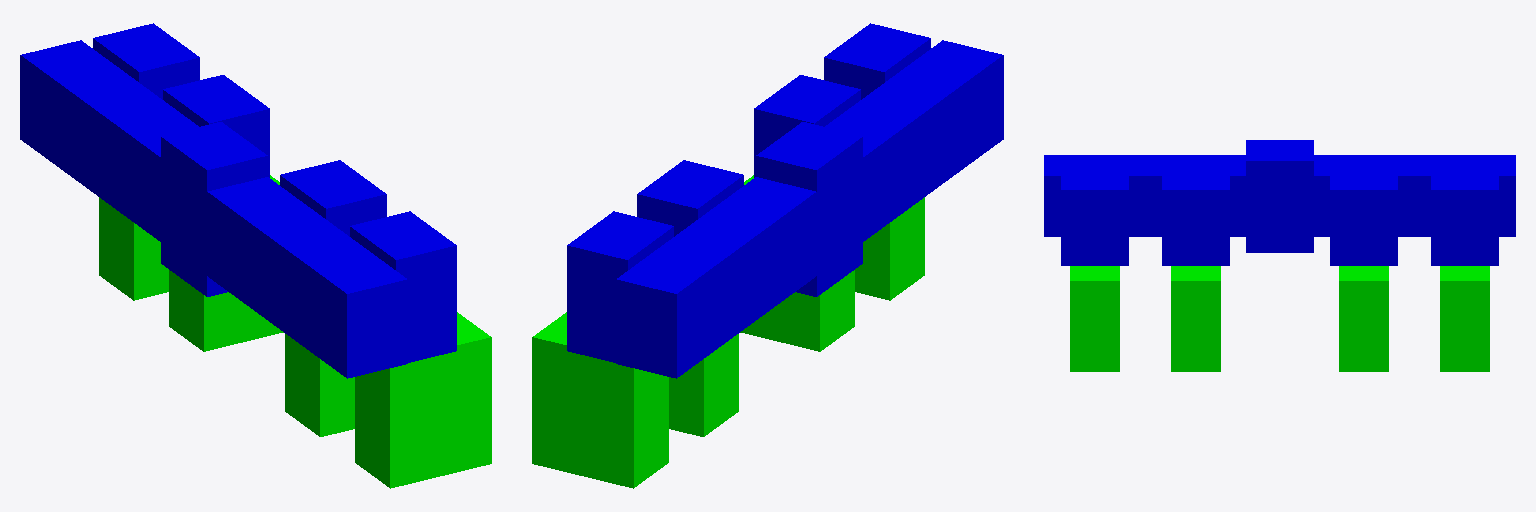
robot.urdf — robot:
<robot name = "robot">
    <link name="root">
        <inertial>
            <origin xyz="0.0 0.0 1.5" rpy="0 0 0"/>
            <mass value="1" />
            <inertia ixx="100" ixy="0" ixz="0" iyy="100" iyz="0" izz="100" />
        </inertial>
        <visual>
            <origin xyz="0.0 0.0 1.5" rpy="0 0 0"/>
            <geometry>
                <box size="0 0 0.0001" />
            </geometry>
            <material name="Green">
                <color rgba="0 1.0 0.0 1.0"/>
            </material>
        </visual>
        <collision>
            <origin xyz="0.0 0.0 1.5" rpy="0 0 0"/>
            <geometry>
                <box size="0 0 0.0001" />
            </geometry>
        </collision>
    </link>
    <joint name="root_000" type="revolute">
       <parent link="root"/>
       <child  link="000"/>
       <origin rpy="0 0 0" xyz="0.0 0.0 1.5" />
     <axis xyz="1 0 0"/>
       <limit effort="0.0" lower="-3.14159" upper="3.14159" velocity="0.0"/>
    </joint>
    <link name="000">
        <inertial>
            <origin xyz="0.0 0.0 -0.3" rpy="0 0 0"/>
            <mass value="1" />
            <inertia ixx="100" ixy="0" ixz="0" iyy="100" iyz="0" izz="100" />
        </inertial>
        <visual>
            <origin xyz="0.0 0.0 -0.3" rpy="0 0 0"/>
            <geometry>
                <box size="0.3 0.4 0.6" />
            </geometry>
            <material name="Blue">
                <color rgba="0 0.0 1.0 1.0"/>
            </material>
        </visual>
        <collision>
            <origin xyz="0.0 0.0 -0.3" rpy="0 0 0"/>
            <geometry>
                <box size="0.3 0.4 0.6" />
            </geometry>
        </collision>
    </link>
    <joint name="000_000-100" type="revolute">
       <parent link="000"/>
       <child  link="000-100"/>
       <origin rpy="0 0 0" xyz="0.0 0.2 -0.3" />
     <axis xyz="0 1 0"/>
       <limit effort="0.0" lower="-3.14159" upper="3.14159" velocity="0.0"/>
    </joint>
    <link name="000-100">
        <inertial>
            <origin xyz="0.0 0.3 -0.0" rpy="0 0 0"/>
            <mass value="1" />
            <inertia ixx="100" ixy="0" ixz="0" iyy="100" iyz="0" izz="100" />
        </inertial>
        <visual>
            <origin xyz="0.0 0.3 -0.0" rpy="0 0 0"/>
            <geometry>
                <box size="0.3 0.6 0.4" />
            </geometry>
            <material name="Blue">
                <color rgba="0 0.0 1.0 1.0"/>
            </material>
        </visual>
        <collision>
            <origin xyz="0.0 0.3 -0.0" rpy="0 0 0"/>
            <geometry>
                <box size="0.3 0.6 0.4" />
            </geometry>
        </collision>
    </link>
    <joint name="000-100_000-110" type="revolute">
       <parent link="000-100"/>
       <child  link="000-110"/>
       <origin rpy="0 0 0" xyz="0.0 0.6 -0.0" />
     <axis xyz="0 1 0"/>
       <limit effort="0.0" lower="-3.14159" upper="3.14159" velocity="0.0"/>
    </joint>
    <link name="000-110">
        <inertial>
            <origin xyz="0.0 0.3 -0.0" rpy="0 0 0"/>
            <mass value="1" />
            <inertia ixx="100" ixy="0" ixz="0" iyy="100" iyz="0" izz="100" />
        </inertial>
        <visual>
            <origin xyz="0.0 0.3 -0.0" rpy="0 0 0"/>
            <geometry>
                <box size="0.3 0.6 0.4" />
            </geometry>
            <material name="Blue">
                <color rgba="0 0.0 1.0 1.0"/>
            </material>
        </visual>
        <collision>
            <origin xyz="0.0 0.3 -0.0" rpy="0 0 0"/>
            <geometry>
                <box size="0.3 0.6 0.4" />
            </geometry>
        </collision>
    </link>
    <joint name="000-110_000-110-200" type="revolute">
       <parent link="000-110"/>
       <child  link="000-110-200"/>
       <origin rpy="0 0 0" xyz="0.15 0.3 -0.0" />
     <axis xyz="1 0 0"/>
       <limit effort="0.0" lower="-3.14159" upper="3.14159" velocity="0.0"/>
    </joint>
    <link name="000-110-200">
        <inertial>
            <origin xyz="0.05 0.0 -0.0" rpy="0 0 0"/>
            <mass value="1" />
            <inertia ixx="100" ixy="0" ixz="0" iyy="100" iyz="0" izz="100" />
        </inertial>
        <visual>
            <origin xyz="0.05 0.0 -0.0" rpy="0 0 0"/>
            <geometry>
                <box size="0.1 0.4 0.5" />
            </geometry>
            <material name="Blue">
                <color rgba="0 0.0 1.0 1.0"/>
            </material>
        </visual>
        <collision>
            <origin xyz="0.05 0.0 -0.0" rpy="0 0 0"/>
            <geometry>
                <box size="0.1 0.4 0.5" />
            </geometry>
        </collision>
    </link>
    <joint name="000-110-200_000-110-210" type="revolute">
       <parent link="000-110-200"/>
       <child  link="000-110-210"/>
       <origin rpy="0 0 0" xyz="0.1 0.0 -0.0" />
     <axis xyz="1 0 0"/>
       <limit effort="0.0" lower="-3.14159" upper="3.14159" velocity="0.0"/>
    </joint>
    <link name="000-110-210">
        <inertial>
            <origin xyz="0.05 0.0 -0.0" rpy="0 0 0"/>
            <mass value="1" />
            <inertia ixx="100" ixy="0" ixz="0" iyy="100" iyz="0" izz="100" />
        </inertial>
        <visual>
            <origin xyz="0.05 0.0 -0.0" rpy="0 0 0"/>
            <geometry>
                <box size="0.1 0.4 0.5" />
            </geometry>
            <material name="Blue">
                <color rgba="0 0.0 1.0 1.0"/>
            </material>
        </visual>
        <collision>
            <origin xyz="0.05 0.0 -0.0" rpy="0 0 0"/>
            <geometry>
                <box size="0.1 0.4 0.5" />
            </geometry>
        </collision>
    </link>
    <joint name="000-110-210_000-110-220" type="revolute">
       <parent link="000-110-210"/>
       <child  link="000-110-220"/>
       <origin rpy="0 0 0" xyz="0.1 0.0 -0.0" />
     <axis xyz="1 0 0"/>
       <limit effort="0.0" lower="-3.14159" upper="3.14159" velocity="0.0"/>
    </joint>
    <link name="000-110-220">
        <inertial>
            <origin xyz="0.05 0.0 -0.0" rpy="0 0 0"/>
            <mass value="1" />
            <inertia ixx="100" ixy="0" ixz="0" iyy="100" iyz="0" izz="100" />
        </inertial>
        <visual>
            <origin xyz="0.05 0.0 -0.0" rpy="0 0 0"/>
            <geometry>
                <box size="0.1 0.4 0.5" />
            </geometry>
            <material name="Blue">
                <color rgba="0 0.0 1.0 1.0"/>
            </material>
        </visual>
        <collision>
            <origin xyz="0.05 0.0 -0.0" rpy="0 0 0"/>
            <geometry>
                <box size="0.1 0.4 0.5" />
            </geometry>
        </collision>
    </link>
    <joint name="000-110-220_000-110-220-300" type="revolute">
       <parent link="000-110-220"/>
       <child  link="000-110-220-300"/>
       <origin rpy="0 0 0" xyz="0.05 0.0 -0.25" />
     <axis xyz="0 0 1"/>
       <limit effort="0.0" lower="-3.14159" upper="3.14159" velocity="0.0"/>
    </joint>
    <link name="000-110-220-300">
        <inertial>
            <origin xyz="0.0 0.0 -0.3" rpy="0 0 0"/>
            <mass value="1" />
            <inertia ixx="100" ixy="0" ixz="0" iyy="100" iyz="0" izz="100" />
        </inertial>
        <visual>
            <origin xyz="0.0 0.0 -0.3" rpy="0 0 0"/>
            <geometry>
                <box size="0.5 0.3 0.6" />
            </geometry>
            <material name="Green">
                <color rgba="0 1.0 0.0 1.0"/>
            </material>
        </visual>
        <collision>
            <origin xyz="0.0 0.0 -0.3" rpy="0 0 0"/>
            <geometry>
                <box size="0.5 0.3 0.6" />
            </geometry>
        </collision>
    </link>
    <joint name="000-100_000-100-200" type="revolute">
       <parent link="000-100"/>
       <child  link="000-100-200"/>
       <origin rpy="0 0 0" xyz="0.15 0.3 -0.0" />
     <axis xyz="1 0 0"/>
       <limit effort="0.0" lower="-3.14159" upper="3.14159" velocity="0.0"/>
    </joint>
    <link name="000-100-200">
        <inertial>
            <origin xyz="0.05 0.0 -0.0" rpy="0 0 0"/>
            <mass value="1" />
            <inertia ixx="100" ixy="0" ixz="0" iyy="100" iyz="0" izz="100" />
        </inertial>
        <visual>
            <origin xyz="0.05 0.0 -0.0" rpy="0 0 0"/>
            <geometry>
                <box size="0.1 0.4 0.5" />
            </geometry>
            <material name="Blue">
                <color rgba="0 0.0 1.0 1.0"/>
            </material>
        </visual>
        <collision>
            <origin xyz="0.05 0.0 -0.0" rpy="0 0 0"/>
            <geometry>
                <box size="0.1 0.4 0.5" />
            </geometry>
        </collision>
    </link>
    <joint name="000-100-200_000-100-210" type="revolute">
       <parent link="000-100-200"/>
       <child  link="000-100-210"/>
       <origin rpy="0 0 0" xyz="0.1 0.0 -0.0" />
     <axis xyz="1 0 0"/>
       <limit effort="0.0" lower="-3.14159" upper="3.14159" velocity="0.0"/>
    </joint>
    <link name="000-100-210">
        <inertial>
            <origin xyz="0.05 0.0 -0.0" rpy="0 0 0"/>
            <mass value="1" />
            <inertia ixx="100" ixy="0" ixz="0" iyy="100" iyz="0" izz="100" />
        </inertial>
        <visual>
            <origin xyz="0.05 0.0 -0.0" rpy="0 0 0"/>
            <geometry>
                <box size="0.1 0.4 0.5" />
            </geometry>
            <material name="Blue">
                <color rgba="0 0.0 1.0 1.0"/>
            </material>
        </visual>
        <collision>
            <origin xyz="0.05 0.0 -0.0" rpy="0 0 0"/>
            <geometry>
                <box size="0.1 0.4 0.5" />
            </geometry>
        </collision>
    </link>
    <joint name="000-100-210_000-100-220" type="revolute">
       <parent link="000-100-210"/>
       <child  link="000-100-220"/>
       <origin rpy="0 0 0" xyz="0.1 0.0 -0.0" />
     <axis xyz="1 0 0"/>
       <limit effort="0.0" lower="-3.14159" upper="3.14159" velocity="0.0"/>
    </joint>
    <link name="000-100-220">
        <inertial>
            <origin xyz="0.05 0.0 -0.0" rpy="0 0 0"/>
            <mass value="1" />
            <inertia ixx="100" ixy="0" ixz="0" iyy="100" iyz="0" izz="100" />
        </inertial>
        <visual>
            <origin xyz="0.05 0.0 -0.0" rpy="0 0 0"/>
            <geometry>
                <box size="0.1 0.4 0.5" />
            </geometry>
            <material name="Blue">
                <color rgba="0 0.0 1.0 1.0"/>
            </material>
        </visual>
        <collision>
            <origin xyz="0.05 0.0 -0.0" rpy="0 0 0"/>
            <geometry>
                <box size="0.1 0.4 0.5" />
            </geometry>
        </collision>
    </link>
    <joint name="000-100-220_000-100-220-300" type="revolute">
       <parent link="000-100-220"/>
       <child  link="000-100-220-300"/>
       <origin rpy="0 0 0" xyz="0.05 0.0 -0.25" />
     <axis xyz="0 0 1"/>
       <limit effort="0.0" lower="-3.14159" upper="3.14159" velocity="0.0"/>
    </joint>
    <link name="000-100-220-300">
        <inertial>
            <origin xyz="0.0 0.0 -0.3" rpy="0 0 0"/>
            <mass value="1" />
            <inertia ixx="100" ixy="0" ixz="0" iyy="100" iyz="0" izz="100" />
        </inertial>
        <visual>
            <origin xyz="0.0 0.0 -0.3" rpy="0 0 0"/>
            <geometry>
                <box size="0.5 0.3 0.6" />
            </geometry>
            <material name="Green">
                <color rgba="0 1.0 0.0 1.0"/>
            </material>
        </visual>
        <collision>
            <origin xyz="0.0 0.0 -0.3" rpy="0 0 0"/>
            <geometry>
                <box size="0.5 0.3 0.6" />
            </geometry>
        </collision>
    </link>
    <joint name="000_000-101" type="revolute">
       <parent link="000"/>
       <child  link="000-101"/>
       <origin rpy="0 0 0" xyz="0.0 -0.2 -0.3" />
     <axis xyz="0 1 0"/>
       <limit effort="0.0" lower="-3.14159" upper="3.14159" velocity="0.0"/>
    </joint>
    <link name="000-101">
        <inertial>
            <origin xyz="0.0 -0.3 -0.0" rpy="0 0 0"/>
            <mass value="1" />
            <inertia ixx="100" ixy="0" ixz="0" iyy="100" iyz="0" izz="100" />
        </inertial>
        <visual>
            <origin xyz="0.0 -0.3 -0.0" rpy="0 0 0"/>
            <geometry>
                <box size="0.3 0.6 0.4" />
            </geometry>
            <material name="Blue">
                <color rgba="0 0.0 1.0 1.0"/>
            </material>
        </visual>
        <collision>
            <origin xyz="0.0 -0.3 -0.0" rpy="0 0 0"/>
            <geometry>
                <box size="0.3 0.6 0.4" />
            </geometry>
        </collision>
    </link>
    <joint name="000-101_000-111" type="revolute">
       <parent link="000-101"/>
       <child  link="000-111"/>
       <origin rpy="0 0 0" xyz="0.0 -0.6 -0.0" />
     <axis xyz="0 1 0"/>
       <limit effort="0.0" lower="-3.14159" upper="3.14159" velocity="0.0"/>
    </joint>
    <link name="000-111">
        <inertial>
            <origin xyz="0.0 -0.3 -0.0" rpy="0 0 0"/>
            <mass value="1" />
            <inertia ixx="100" ixy="0" ixz="0" iyy="100" iyz="0" izz="100" />
        </inertial>
        <visual>
            <origin xyz="0.0 -0.3 -0.0" rpy="0 0 0"/>
            <geometry>
                <box size="0.3 0.6 0.4" />
            </geometry>
            <material name="Blue">
                <color rgba="0 0.0 1.0 1.0"/>
            </material>
        </visual>
        <collision>
            <origin xyz="0.0 -0.3 -0.0" rpy="0 0 0"/>
            <geometry>
                <box size="0.3 0.6 0.4" />
            </geometry>
        </collision>
    </link>
    <joint name="000-111_000-111-200" type="revolute">
       <parent link="000-111"/>
       <child  link="000-111-200"/>
       <origin rpy="0 0 0" xyz="0.15 -0.3 -0.0" />
     <axis xyz="1 0 0"/>
       <limit effort="0.0" lower="-3.14159" upper="3.14159" velocity="0.0"/>
    </joint>
    <link name="000-111-200">
        <inertial>
            <origin xyz="0.05 -0.0 -0.0" rpy="0 0 0"/>
            <mass value="1" />
            <inertia ixx="100" ixy="0" ixz="0" iyy="100" iyz="0" izz="100" />
        </inertial>
        <visual>
            <origin xyz="0.05 -0.0 -0.0" rpy="0 0 0"/>
            <geometry>
                <box size="0.1 0.4 0.5" />
            </geometry>
            <material name="Blue">
                <color rgba="0 0.0 1.0 1.0"/>
            </material>
        </visual>
        <collision>
            <origin xyz="0.05 -0.0 -0.0" rpy="0 0 0"/>
            <geometry>
                <box size="0.1 0.4 0.5" />
            </geometry>
        </collision>
    </link>
    <joint name="000-111-200_000-111-210" type="revolute">
       <parent link="000-111-200"/>
       <child  link="000-111-210"/>
       <origin rpy="0 0 0" xyz="0.1 -0.0 -0.0" />
     <axis xyz="1 0 0"/>
       <limit effort="0.0" lower="-3.14159" upper="3.14159" velocity="0.0"/>
    </joint>
    <link name="000-111-210">
        <inertial>
            <origin xyz="0.05 -0.0 -0.0" rpy="0 0 0"/>
            <mass value="1" />
            <inertia ixx="100" ixy="0" ixz="0" iyy="100" iyz="0" izz="100" />
        </inertial>
        <visual>
            <origin xyz="0.05 -0.0 -0.0" rpy="0 0 0"/>
            <geometry>
                <box size="0.1 0.4 0.5" />
            </geometry>
            <material name="Blue">
                <color rgba="0 0.0 1.0 1.0"/>
            </material>
        </visual>
        <collision>
            <origin xyz="0.05 -0.0 -0.0" rpy="0 0 0"/>
            <geometry>
                <box size="0.1 0.4 0.5" />
            </geometry>
        </collision>
    </link>
    <joint name="000-111-210_000-111-220" type="revolute">
       <parent link="000-111-210"/>
       <child  link="000-111-220"/>
       <origin rpy="0 0 0" xyz="0.1 -0.0 -0.0" />
     <axis xyz="1 0 0"/>
       <limit effort="0.0" lower="-3.14159" upper="3.14159" velocity="0.0"/>
    </joint>
    <link name="000-111-220">
        <inertial>
            <origin xyz="0.05 -0.0 -0.0" rpy="0 0 0"/>
            <mass value="1" />
            <inertia ixx="100" ixy="0" ixz="0" iyy="100" iyz="0" izz="100" />
        </inertial>
        <visual>
            <origin xyz="0.05 -0.0 -0.0" rpy="0 0 0"/>
            <geometry>
                <box size="0.1 0.4 0.5" />
            </geometry>
            <material name="Blue">
                <color rgba="0 0.0 1.0 1.0"/>
            </material>
        </visual>
        <collision>
            <origin xyz="0.05 -0.0 -0.0" rpy="0 0 0"/>
            <geometry>
                <box size="0.1 0.4 0.5" />
            </geometry>
        </collision>
    </link>
    <joint name="000-111-220_000-111-220-300" type="revolute">
       <parent link="000-111-220"/>
       <child  link="000-111-220-300"/>
       <origin rpy="0 0 0" xyz="0.05 -0.0 -0.25" />
     <axis xyz="0 0 1"/>
       <limit effort="0.0" lower="-3.14159" upper="3.14159" velocity="0.0"/>
    </joint>
    <link name="000-111-220-300">
        <inertial>
            <origin xyz="0.0 -0.0 -0.3" rpy="0 0 0"/>
            <mass value="1" />
            <inertia ixx="100" ixy="0" ixz="0" iyy="100" iyz="0" izz="100" />
        </inertial>
        <visual>
            <origin xyz="0.0 -0.0 -0.3" rpy="0 0 0"/>
            <geometry>
                <box size="0.5 0.3 0.6" />
            </geometry>
            <material name="Green">
                <color rgba="0 1.0 0.0 1.0"/>
            </material>
        </visual>
        <collision>
            <origin xyz="0.0 -0.0 -0.3" rpy="0 0 0"/>
            <geometry>
                <box size="0.5 0.3 0.6" />
            </geometry>
        </collision>
    </link>
    <joint name="000-101_000-101-200" type="revolute">
       <parent link="000-101"/>
       <child  link="000-101-200"/>
       <origin rpy="0 0 0" xyz="0.15 -0.3 -0.0" />
     <axis xyz="1 0 0"/>
       <limit effort="0.0" lower="-3.14159" upper="3.14159" velocity="0.0"/>
    </joint>
    <link name="000-101-200">
        <inertial>
            <origin xyz="0.05 -0.0 -0.0" rpy="0 0 0"/>
            <mass value="1" />
            <inertia ixx="100" ixy="0" ixz="0" iyy="100" iyz="0" izz="100" />
        </inertial>
        <visual>
            <origin xyz="0.05 -0.0 -0.0" rpy="0 0 0"/>
            <geometry>
                <box size="0.1 0.4 0.5" />
            </geometry>
            <material name="Blue">
                <color rgba="0 0.0 1.0 1.0"/>
            </material>
        </visual>
        <collision>
            <origin xyz="0.05 -0.0 -0.0" rpy="0 0 0"/>
            <geometry>
                <box size="0.1 0.4 0.5" />
            </geometry>
        </collision>
    </link>
    <joint name="000-101-200_000-101-210" type="revolute">
       <parent link="000-101-200"/>
       <child  link="000-101-210"/>
       <origin rpy="0 0 0" xyz="0.1 -0.0 -0.0" />
     <axis xyz="1 0 0"/>
       <limit effort="0.0" lower="-3.14159" upper="3.14159" velocity="0.0"/>
    </joint>
    <link name="000-101-210">
        <inertial>
            <origin xyz="0.05 -0.0 -0.0" rpy="0 0 0"/>
            <mass value="1" />
            <inertia ixx="100" ixy="0" ixz="0" iyy="100" iyz="0" izz="100" />
        </inertial>
        <visual>
            <origin xyz="0.05 -0.0 -0.0" rpy="0 0 0"/>
            <geometry>
                <box size="0.1 0.4 0.5" />
            </geometry>
            <material name="Blue">
                <color rgba="0 0.0 1.0 1.0"/>
            </material>
        </visual>
        <collision>
            <origin xyz="0.05 -0.0 -0.0" rpy="0 0 0"/>
            <geometry>
                <box size="0.1 0.4 0.5" />
            </geometry>
        </collision>
    </link>
    <joint name="000-101-210_000-101-220" type="revolute">
       <parent link="000-101-210"/>
       <child  link="000-101-220"/>
       <origin rpy="0 0 0" xyz="0.1 -0.0 -0.0" />
     <axis xyz="1 0 0"/>
       <limit effort="0.0" lower="-3.14159" upper="3.14159" velocity="0.0"/>
    </joint>
    <link name="000-101-220">
        <inertial>
            <origin xyz="0.05 -0.0 -0.0" rpy="0 0 0"/>
            <mass value="1" />
            <inertia ixx="100" ixy="0" ixz="0" iyy="100" iyz="0" izz="100" />
        </inertial>
        <visual>
            <origin xyz="0.05 -0.0 -0.0" rpy="0 0 0"/>
            <geometry>
                <box size="0.1 0.4 0.5" />
            </geometry>
            <material name="Blue">
                <color rgba="0 0.0 1.0 1.0"/>
            </material>
        </visual>
        <collision>
            <origin xyz="0.05 -0.0 -0.0" rpy="0 0 0"/>
            <geometry>
                <box size="0.1 0.4 0.5" />
            </geometry>
        </collision>
    </link>
    <joint name="000-101-220_000-101-220-300" type="revolute">
       <parent link="000-101-220"/>
       <child  link="000-101-220-300"/>
       <origin rpy="0 0 0" xyz="0.05 -0.0 -0.25" />
     <axis xyz="0 0 1"/>
       <limit effort="0.0" lower="-3.14159" upper="3.14159" velocity="0.0"/>
    </joint>
    <link name="000-101-220-300">
        <inertial>
            <origin xyz="0.0 -0.0 -0.3" rpy="0 0 0"/>
            <mass value="1" />
            <inertia ixx="100" ixy="0" ixz="0" iyy="100" iyz="0" izz="100" />
        </inertial>
        <visual>
            <origin xyz="0.0 -0.0 -0.3" rpy="0 0 0"/>
            <geometry>
                <box size="0.5 0.3 0.6" />
            </geometry>
            <material name="Green">
                <color rgba="0 1.0 0.0 1.0"/>
            </material>
        </visual>
        <collision>
            <origin xyz="0.0 -0.0 -0.3" rpy="0 0 0"/>
            <geometry>
                <box size="0.5 0.3 0.6" />
            </geometry>
        </collision>
    </link>
</robot>

--- Render facts (derived) ---
Views: 3 orthographic renders of the robot side by side, from view 1: azimuth 30°, elevation 25°; view 2: azimuth 150°, elevation 25°; view 3: azimuth 270°, elevation 25°.
Robot: robot — 22 links, 21 joints (21 revolute); root link root; default pose: every joint at zero.
Visible links, largest first — view 1: [phone redacted] (×16), 000-111, 000-110, 000, 000-101, 000-100; view 2: [phone redacted] (×16), 000-110, 000-111, 000, 000-100, 000-101; view 3: [phone redacted] (×8), 000, 000-100, 000-110, 000-101, 000-111.
Boxes of the visible links, x1,y1,x2,y2 form: [phone redacted] (×16): (93,23,491,488); 000-111: (277,228,407,378); 000-110: (20,40,150,190); 000: (161,122,267,296); 000-101: (207,177,336,326); 000-100: (91,92,198,241); [phone redacted] (×16): (532,23,930,488); 000-110: (616,228,746,378); 000-111: (873,40,1003,190); 000: (756,122,862,296); 000-100: (687,177,816,326); 000-101: (825,92,932,241); [phone redacted] (×8): (1061,183,1498,371); 000: (1246,140,1313,252); 000-100: (1314,155,1414,236); 000-110: (1415,155,1515,236); 000-101: (1145,155,1245,236); 000-111: (1044,155,1144,236).
Size in the robot's own frame: 0.8 by 2.8 by 1.15 metres.
Geometry: primitives only (box / cylinder / sphere), no mesh files.
